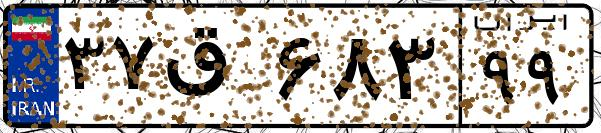3: (385, 28, 445, 110), (57, 26, 110, 100)
6: (270, 28, 330, 110)
7: (110, 28, 158, 98)
8: (330, 28, 385, 110)
9: (475, 38, 525, 113), (525, 38, 570, 115)
ق: (158, 20, 270, 120)
